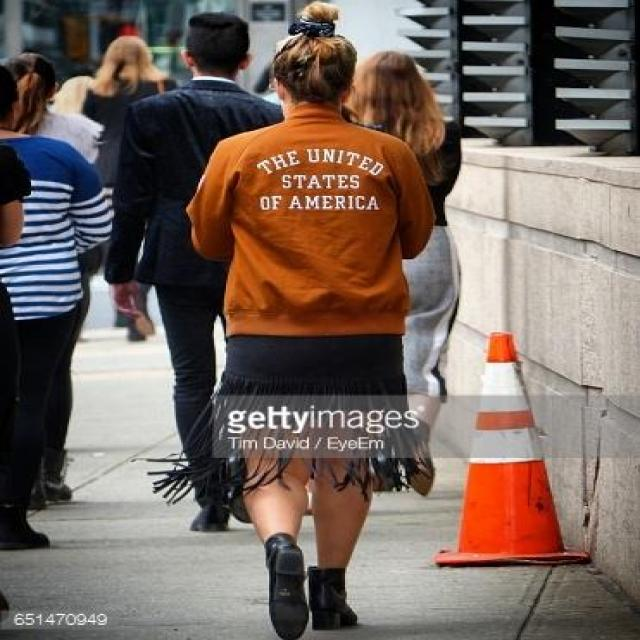Cone: (436, 331, 592, 567)
